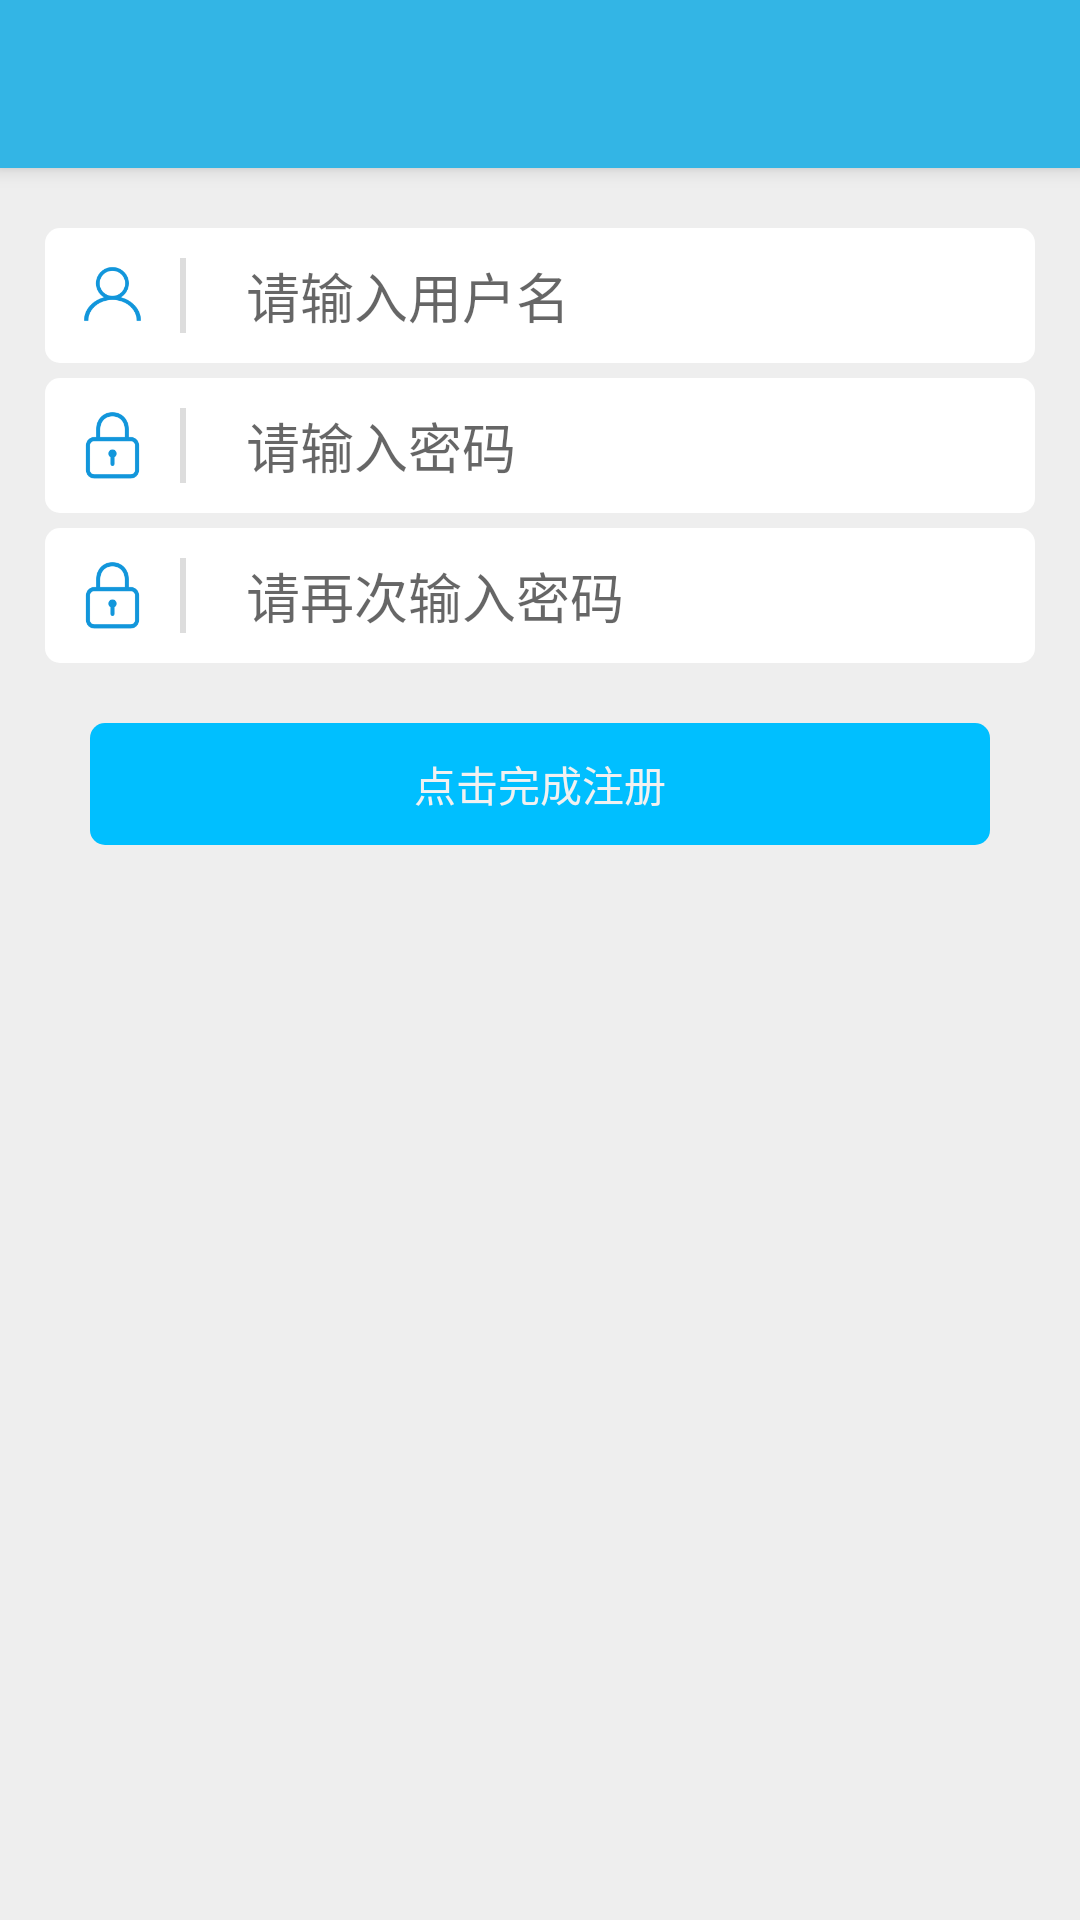

Named icons in this screenshot (1080×1920) and their centers, [x,y]:
password login: [112,445], [112,595]
user login: [112,294]
